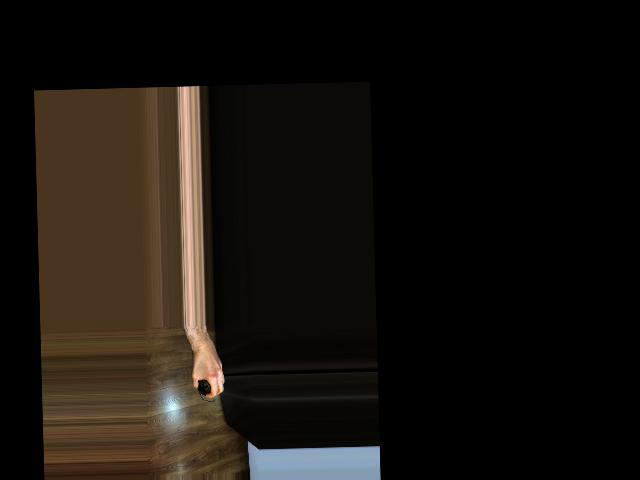beet: (197, 379, 214, 403)
